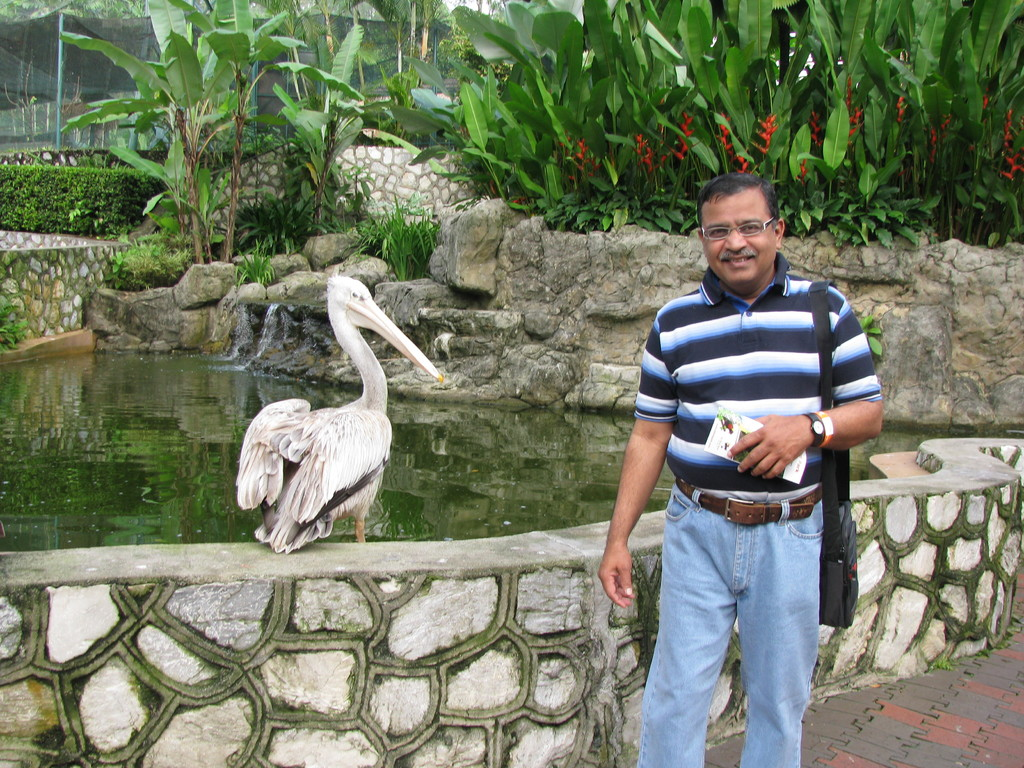Tree: (64, 0, 241, 268), (181, 0, 307, 259), (245, 0, 455, 145), (274, 21, 379, 235)
